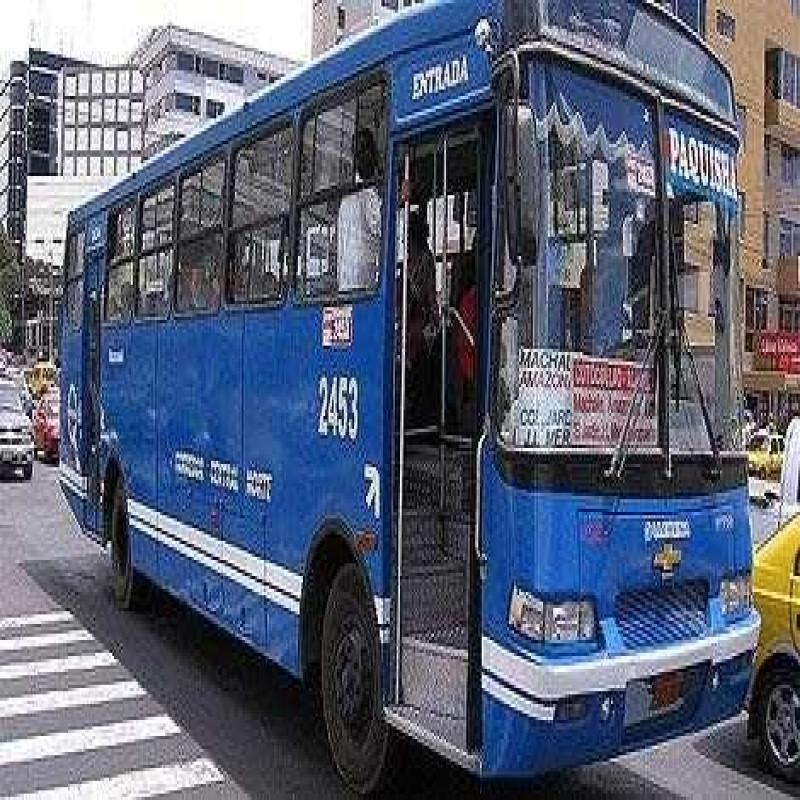bus: (57, 15, 754, 770)
